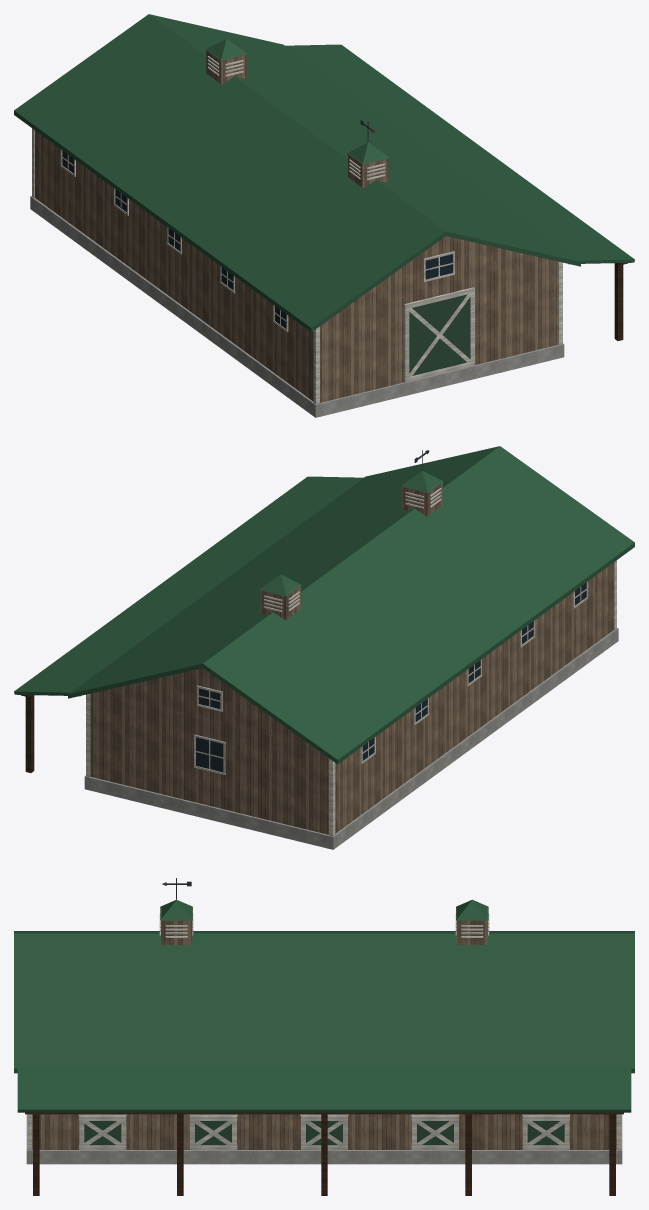
Rendered from horse-stable.glb.
3 views of the same model, one above another, from view 1: azimuth 30°, elevation 25°; view 2: azimuth 150°, elevation 25°; view 3: azimuth 270°, elevation 25° (orthographic). The views are drawn at different scales.
Parts seen in each view (by area): view 1: Stable; view 2: Stable; view 3: Stable.
Boxes of the visible parts, x1,y1,x2,y2 form: Stable: (14,14,634,417); Stable: (14,446,634,849); Stable: (14,878,634,1195).
Size of the model in its own units: 10.62 by 6.65 by 16.8.
9 materials, 4 textured.
